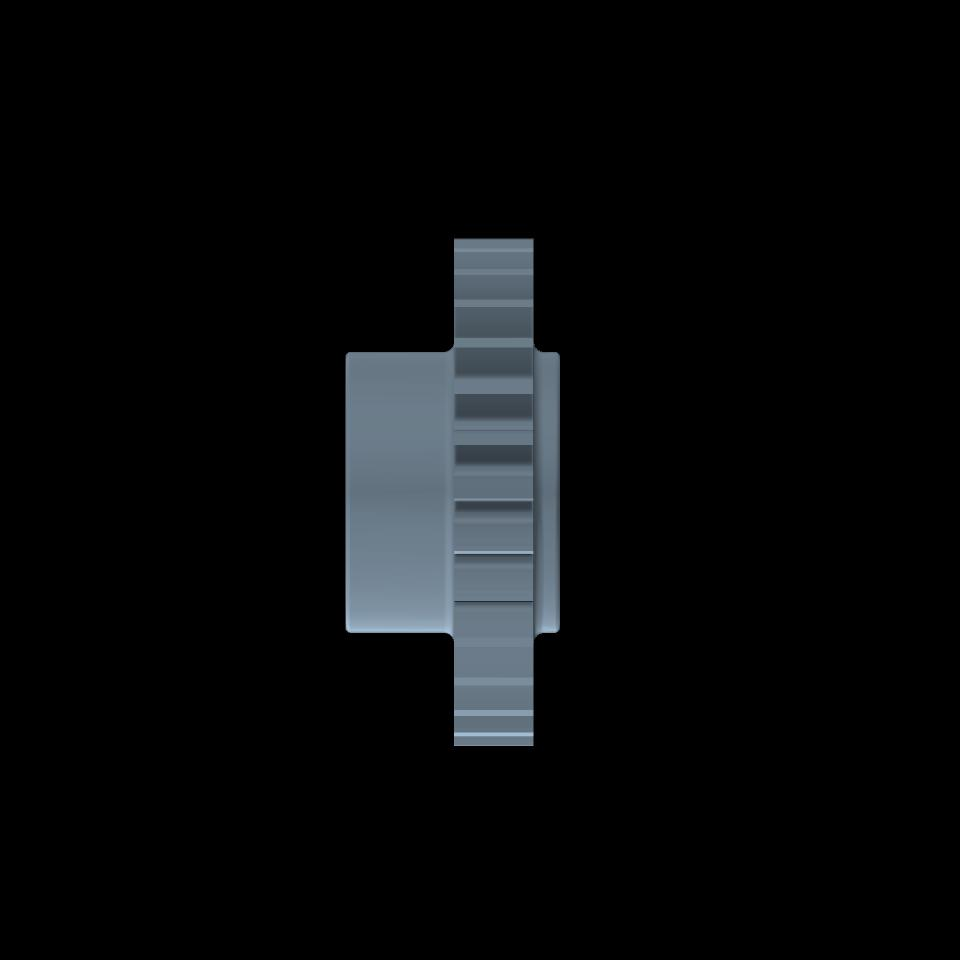Straight: (455, 239, 532, 745)
